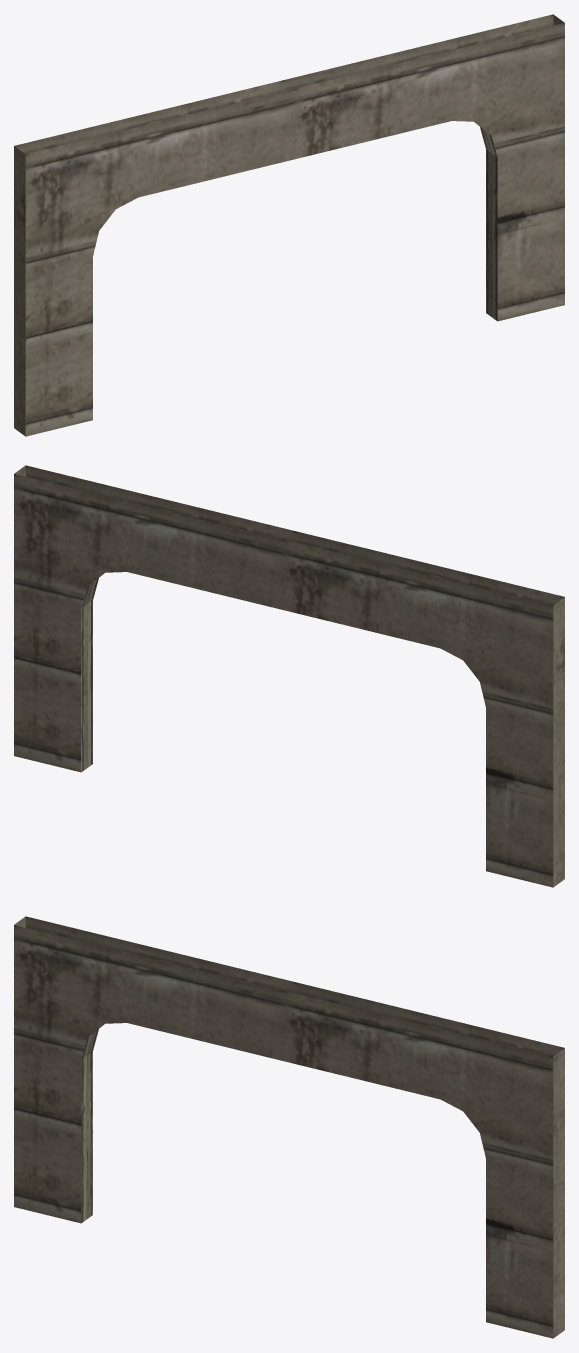
The model's file is MO_WALLWINDOW_S_01.fbx.
The picture shows the model from 3 angles, top to bottom: view 1: azimuth 30°, elevation 25°; view 2: azimuth 150°, elevation 25°; view 3: azimuth 330°, elevation 25°; orthographic projection.
Parts seen in each view (by area): view 1: MO_WALLWINDOW_S_01; view 2: MO_WALLWINDOW_S_01; view 3: MO_WALLWINDOW_S_01.
Part boxes in pixels (x1,y1,x2,y2): MO_WALLWINDOW_S_01: [14, 14, 564, 436]; MO_WALLWINDOW_S_01: [14, 465, 564, 887]; MO_WALLWINDOW_S_01: [14, 916, 564, 1338].
Size of the model in its own units: 8 by 4 by 0.3.
